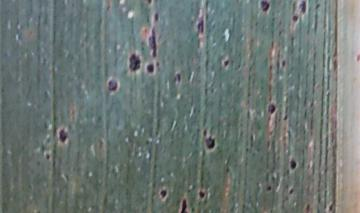tarspot: (146, 26, 161, 59), (126, 50, 143, 74), (105, 75, 119, 95), (203, 135, 218, 153), (56, 125, 69, 145), (194, 18, 208, 33), (178, 195, 189, 213), (257, 1, 272, 14), (143, 62, 156, 76), (266, 101, 278, 115), (297, 1, 309, 15), (287, 156, 298, 171), (151, 10, 162, 22), (159, 186, 168, 200), (221, 58, 232, 69), (290, 13, 301, 24), (279, 57, 289, 69), (175, 70, 182, 87), (282, 111, 290, 125), (197, 190, 207, 201), (264, 182, 273, 194), (287, 186, 296, 197), (43, 152, 52, 163)
